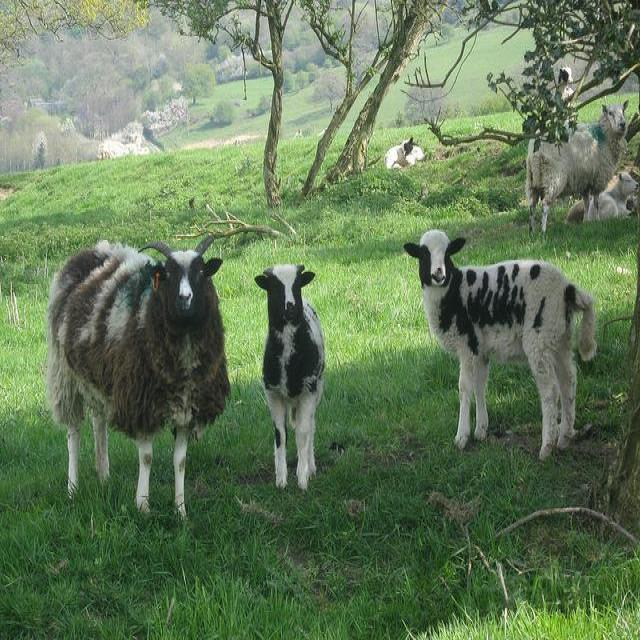Sheep: (51, 232, 232, 519), (402, 231, 599, 461), (256, 264, 327, 489), (524, 92, 631, 236), (566, 172, 639, 223)
